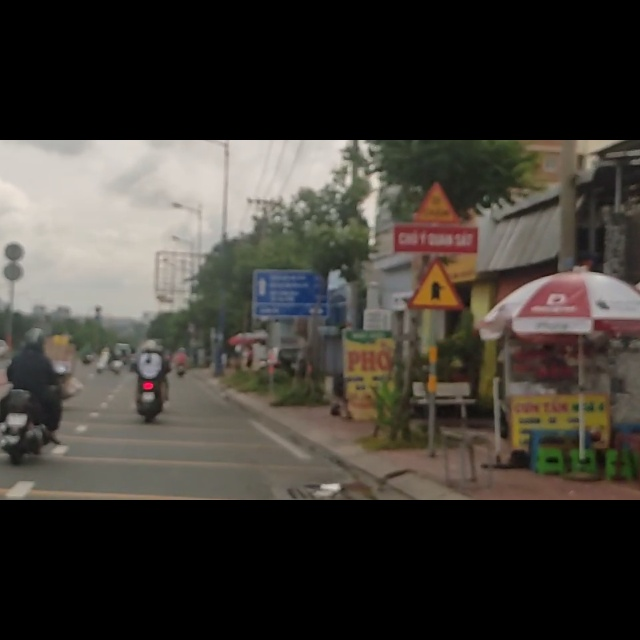bien_nguy_hiem: (407, 216, 464, 300)
